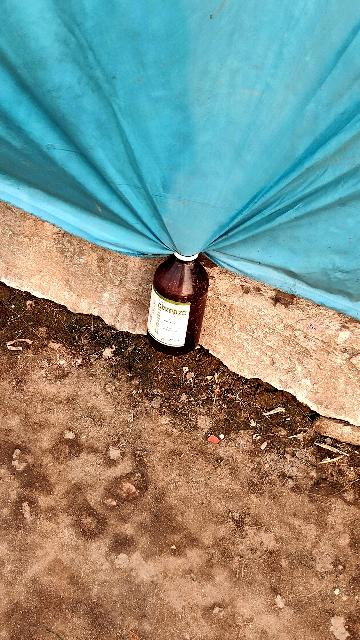bottle: (140, 250, 218, 355)
